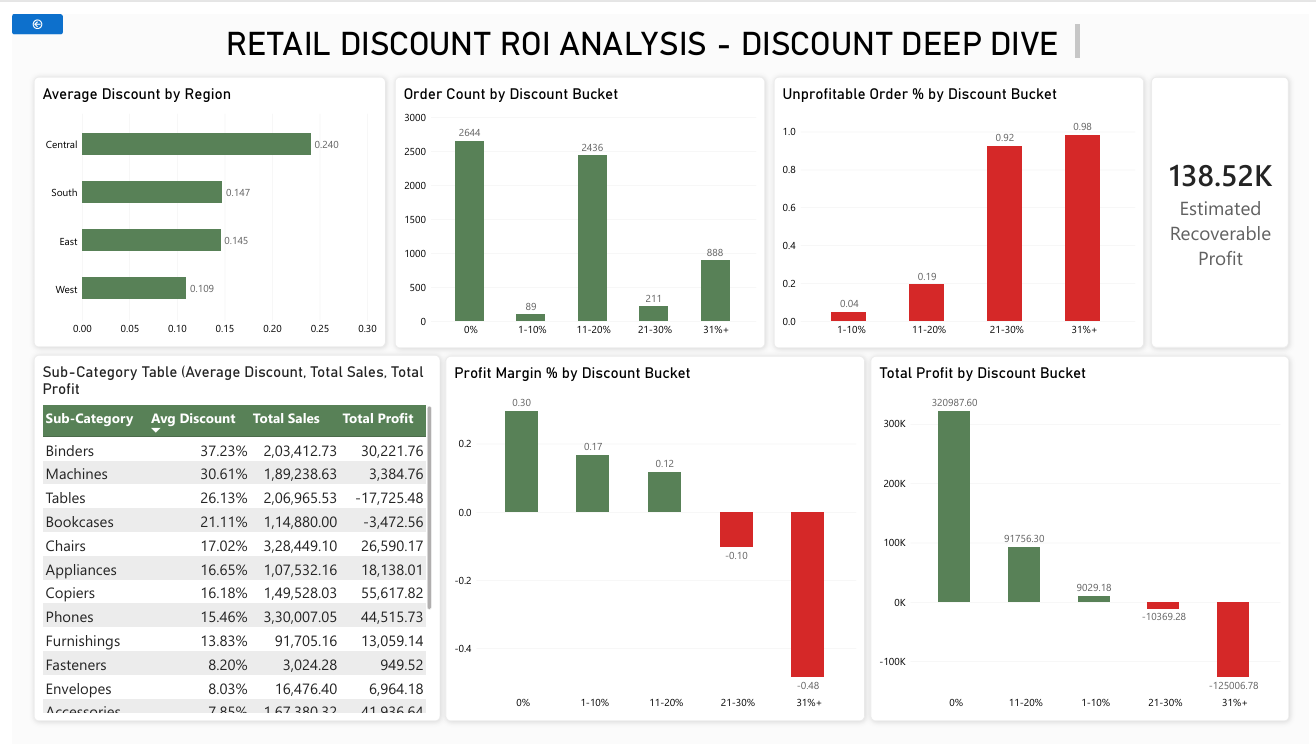

The dashboard page shown, as its layout file describes it:
{"tool":"powerbi","page":{"name":"Page 2","canvas":[2560,1440],"ordinal":1},"visuals":[{"type":"clusteredColumnChart","fields":{"Category":["superstore_cleaned.Discount Bucket"],"Y":["tbl_Measures.Unprofitable Order %"]},"box":[1504.3,124.3,730,534.3],"z":0},{"type":"tableEx","title":"Sub-Category Table (Average Discount, Total Sales, Total Profit","fields":{"Values":["superstore_cleaned.Sub-Category","tbl_Measures.Avg Discount %","tbl_Measures.Total Sales","tbl_Measures.Total Profit"]},"box":[42.5,672.5,802.5,722.5],"z":1000},{"type":"actionButton","box":[0,0,100,40],"z":2000},{"type":"clusteredBarChart","title":"Average Discount by Region","fields":{"Category":["superstore_cleaned.Region"],"Y":["tbl_Measures.Avg Discount %"]},"box":[42.9,124.3,694.3,532.9],"z":3000},{"type":"cardVisual","fields":{"Data":["tbl_Measures.Estimated Recoverable Profit"]},"box":[2248.6,124.3,271.4,534.3],"z":4000},{"type":"clusteredColumnChart","fields":{"Category":["superstore_cleaned.Discount Bucket"],"Y":["tbl_Measures.Profit Margin %"]},"box":[856.2,675,826.7,720],"z":5000},{"type":"clusteredColumnChart","fields":{"Category":["superstore_cleaned.Discount Bucket"],"Y":["tbl_Measures.Total Profit"]},"box":[1695,675,826,720],"z":6000},{"type":"clusteredColumnChart","fields":{"Category":["superstore_cleaned.Discount Bucket"],"Y":["tbl_Measures.Order Count"]},"box":[755.7,124.3,730,534.3],"z":7000},{"type":"textbox","box":[390,20,1716.7,70],"z":8000}]}

Visuals, with their boxes in screenshot pixels (x1, y1, x2, y2), scaled from the page's 2560x1440 canvas onto the 1316x752 screenshot:
clusteredColumnChart - superstore_cleaned.Discount Bucket x tbl_Measures.Unprofitable Order %: 773, 65, 1149, 344
"Sub-Category Table (Average Discount, Total Sales, Total Profit" tableEx: 22, 351, 434, 728
actionButton: 0, 0, 51, 21
"Average Discount by Region" clusteredBarChart: 22, 65, 379, 343
cardVisual - tbl_Measures.Estimated Recoverable Profit: 1156, 65, 1295, 344
clusteredColumnChart - superstore_cleaned.Discount Bucket x tbl_Measures.Profit Margin %: 440, 352, 865, 728
clusteredColumnChart - superstore_cleaned.Discount Bucket x tbl_Measures.Total Profit: 871, 352, 1296, 728
clusteredColumnChart - superstore_cleaned.Discount Bucket x tbl_Measures.Order Count: 388, 65, 764, 344
textbox: 200, 10, 1083, 47
